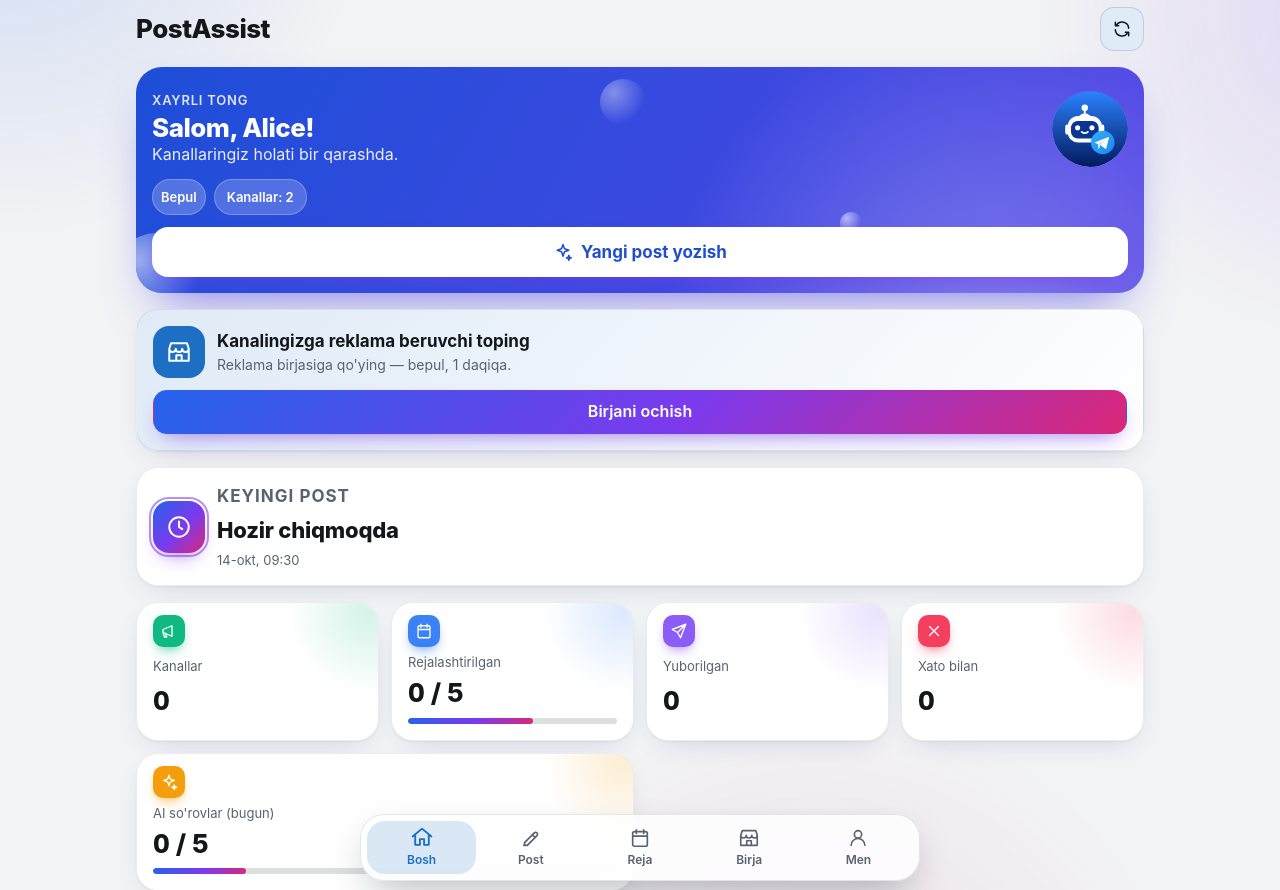
Test: Aqlli rejalash › aniqlanmadi: tushunarli xabar, taklif yo'q; bo'sh matn so'rov yubormaydi
The image size is (1280, 890).
Expected: the heading "Salom, Alice!" is shown, left=152, top=112, right=314, bottom=143
Click the button "Post" at [531, 847], box left=476, top=821, right=585, bottom=874
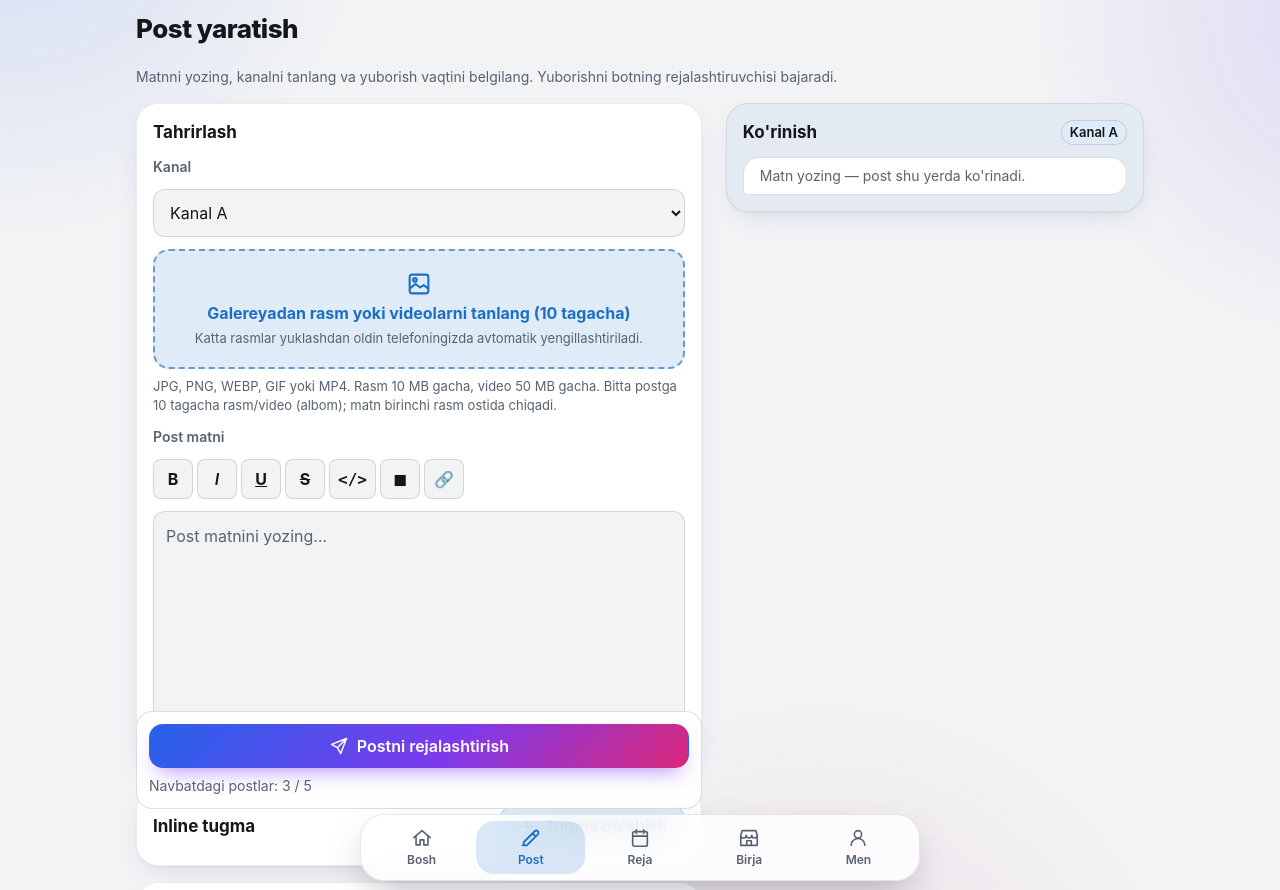
Select "Kanal A" in the dropdown labelled "Kanal" at [419, 213], box left=153, top=189, right=685, bottom=237
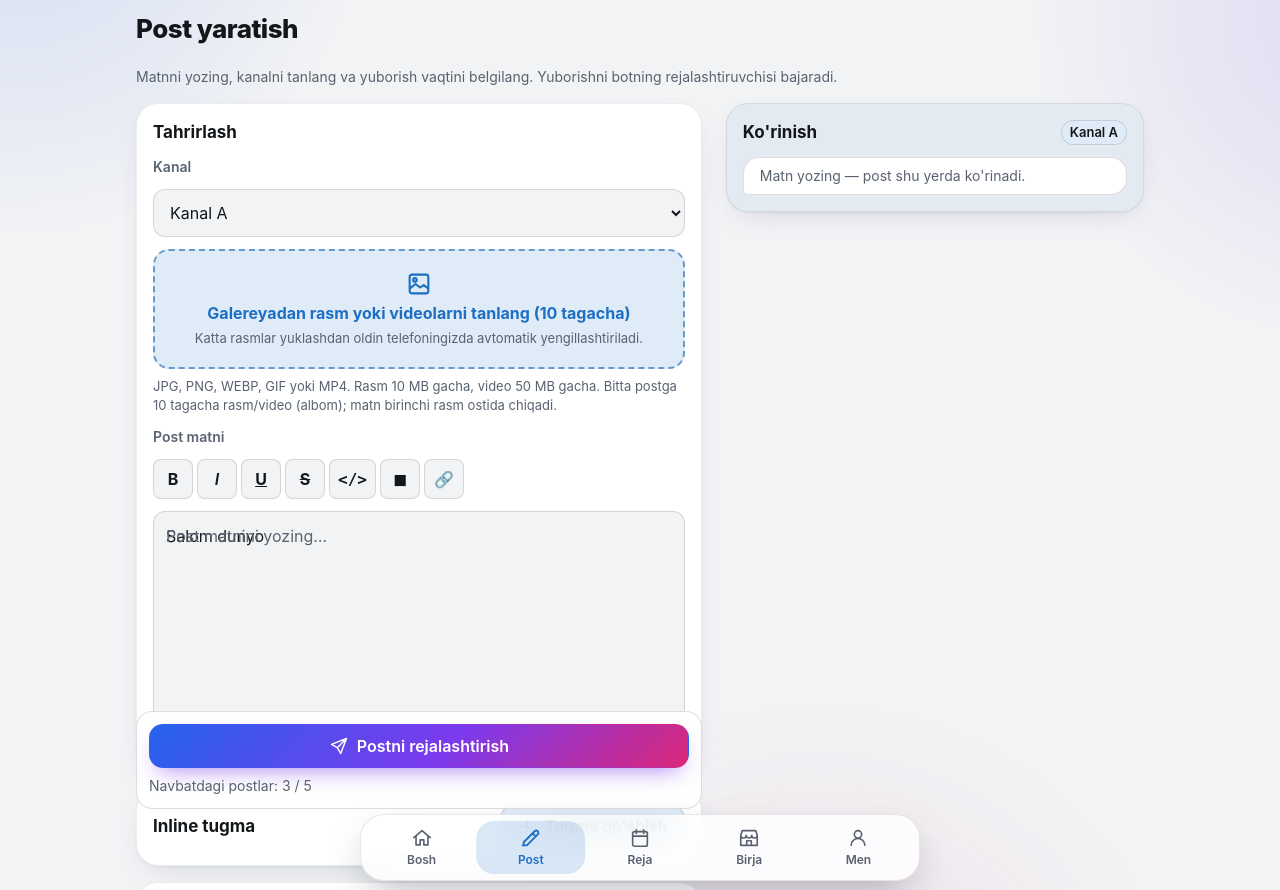
Clear the field named "Post matni" at [419, 617], box left=153, top=511, right=685, bottom=722
(page scrolled)
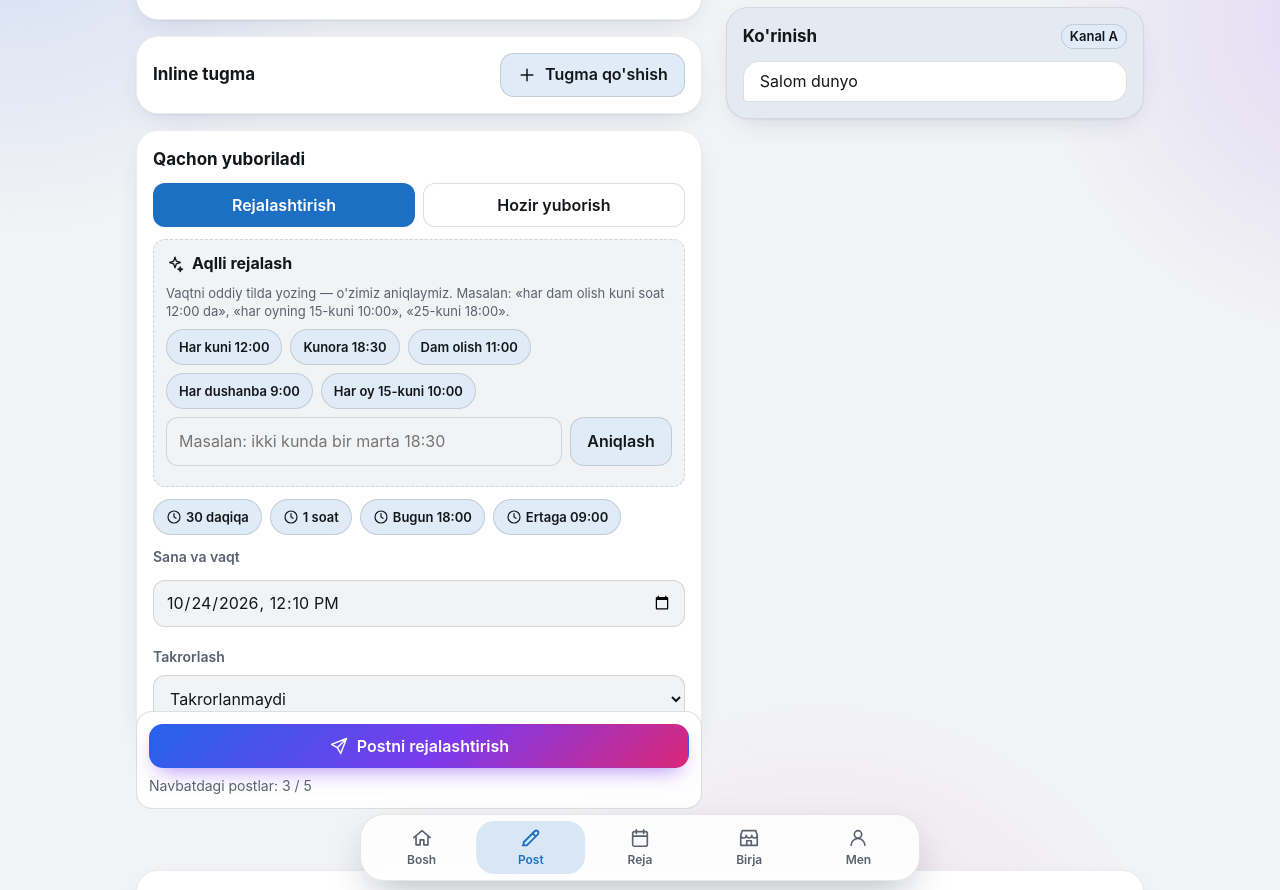
Click the button "Aniqlash" at [621, 442], box left=570, top=417, right=672, bottom=466
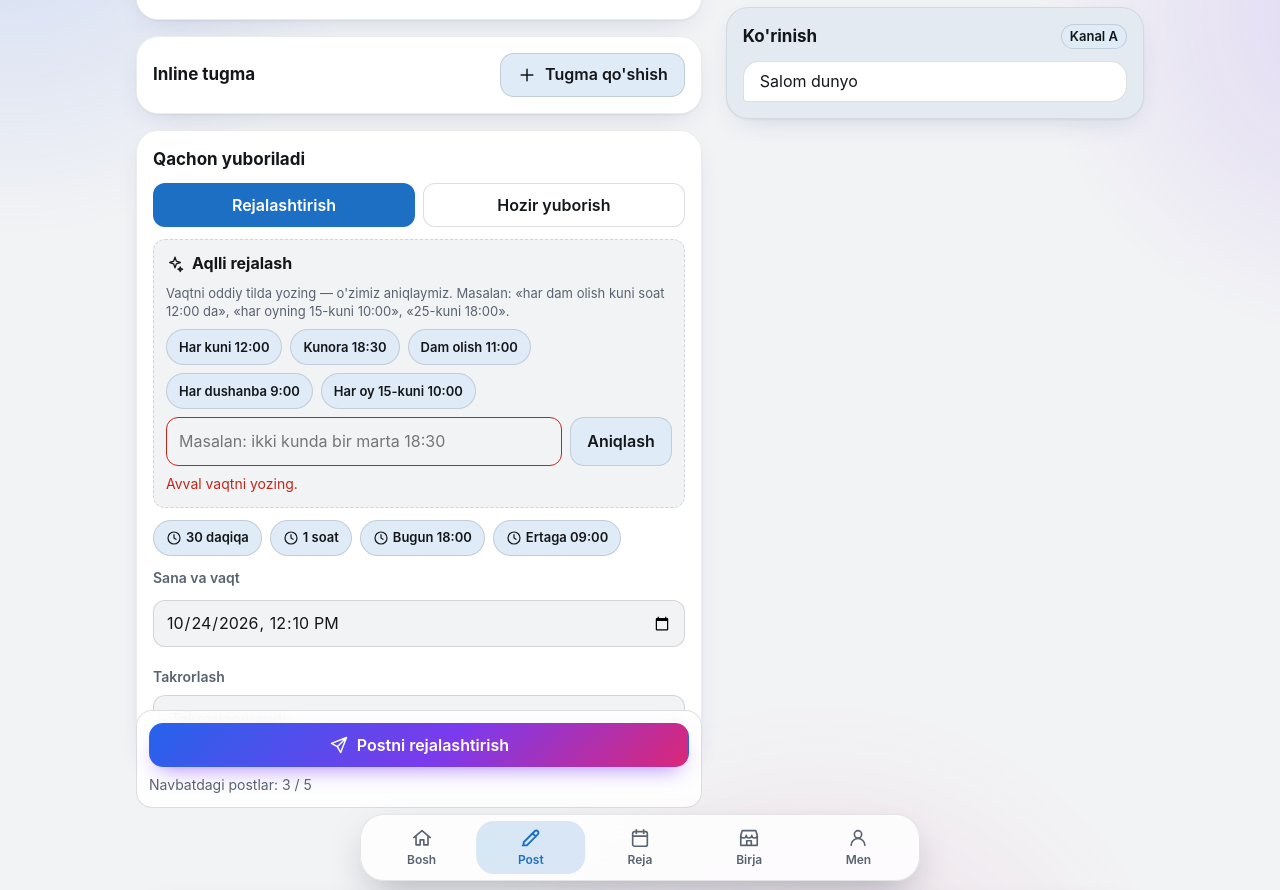
Expected: the text "Avval vaqtni yozing." is shown, left=166, top=475, right=298, bottom=492
Type "har kuni" into the field named "Aqlli rejalash" at [364, 442], box left=166, top=417, right=562, bottom=466
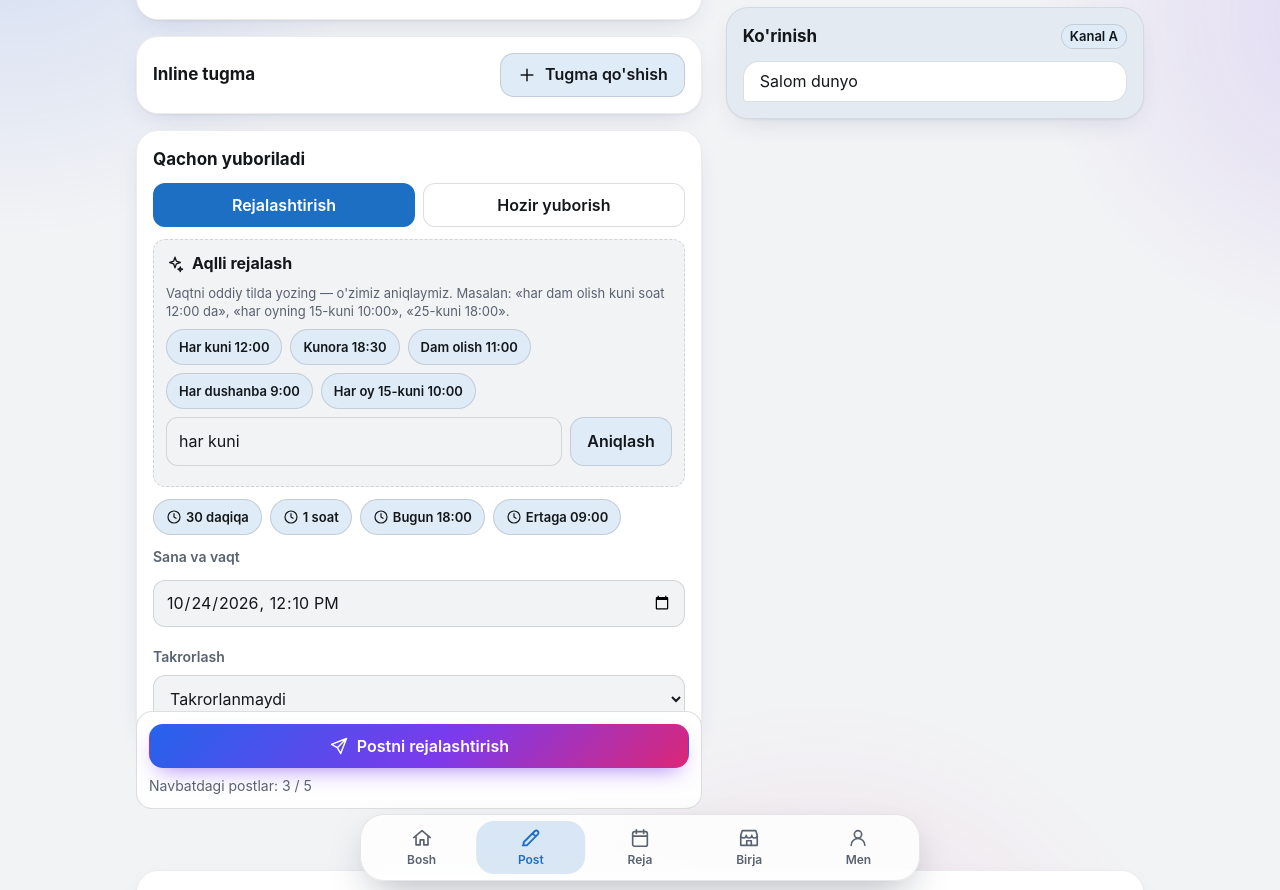
Click the button "Aniqlash" at [621, 442], box left=570, top=417, right=672, bottom=466
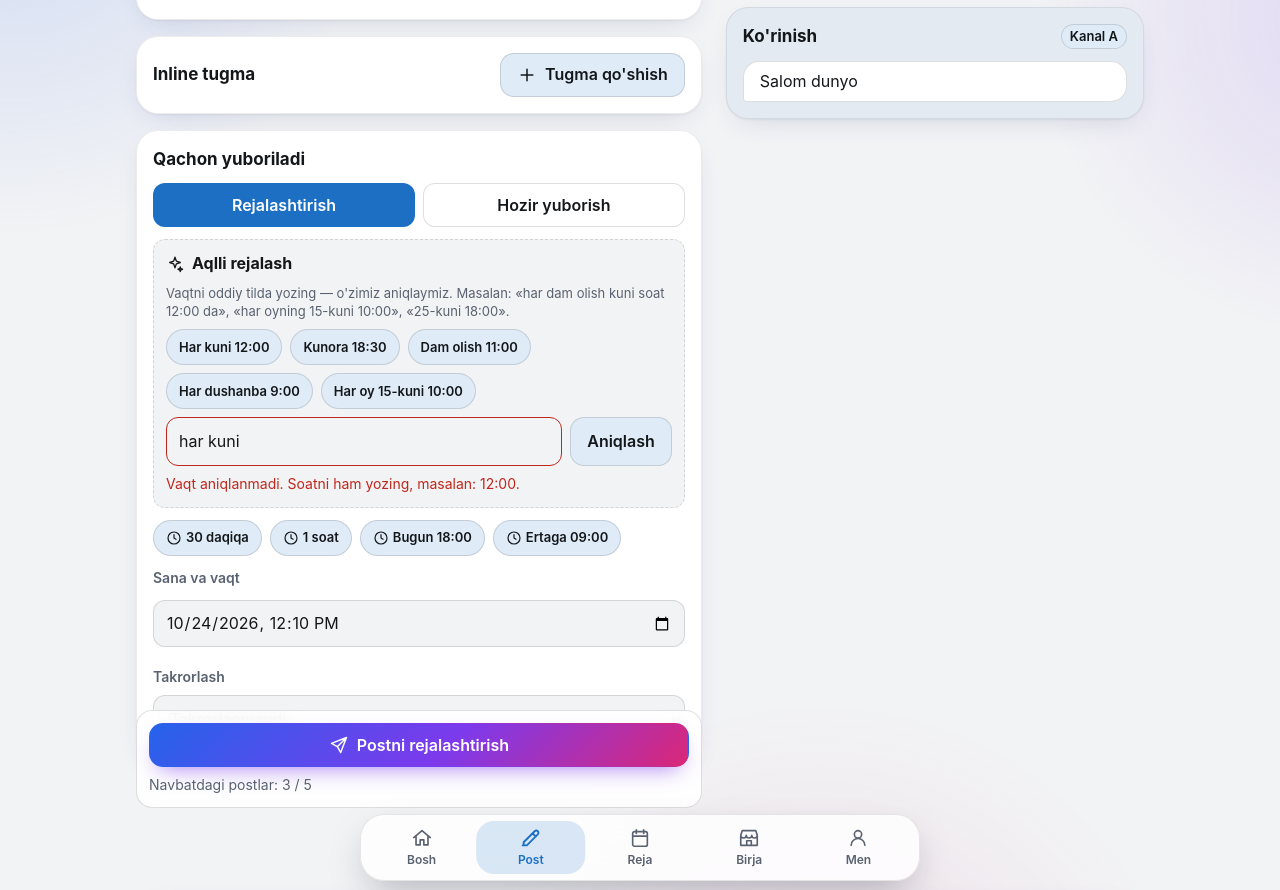
Expected: the text "Vaqt aniqlanmadi. Soatni ham yozing, masalan: 12:00." is shown, left=166, top=475, right=520, bottom=492
